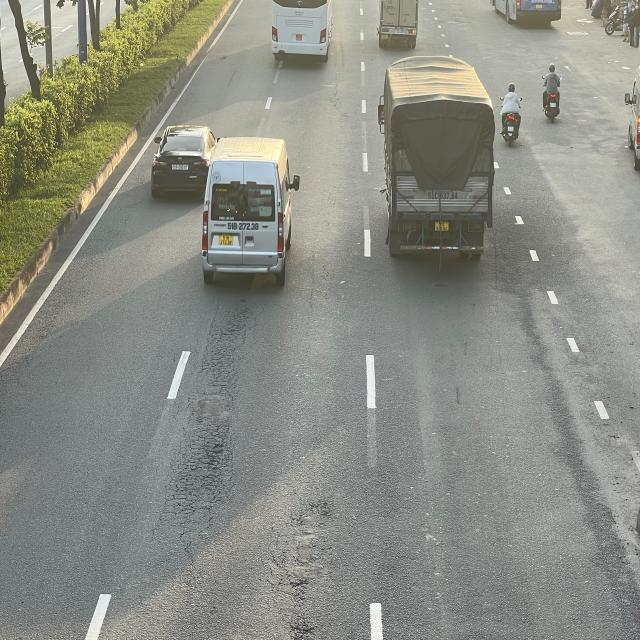car: (149, 122, 215, 196)
coach: (269, 0, 331, 59)
truck: (376, 60, 497, 268), (379, 0, 421, 48)
van: (201, 138, 300, 288)
